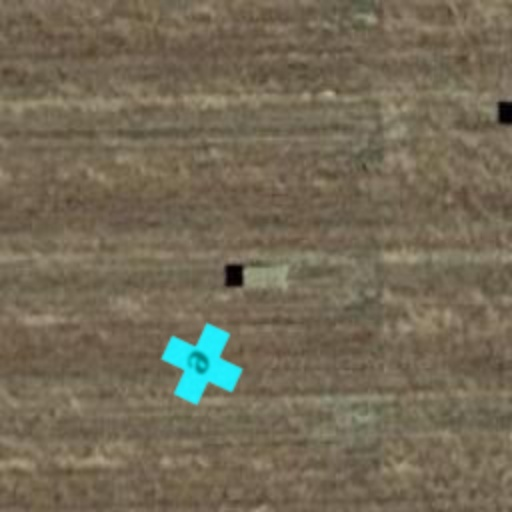cross: (148, 310, 256, 418)
